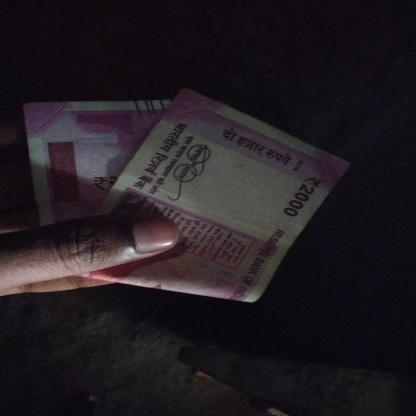New2000Back: (91, 97, 328, 296)
